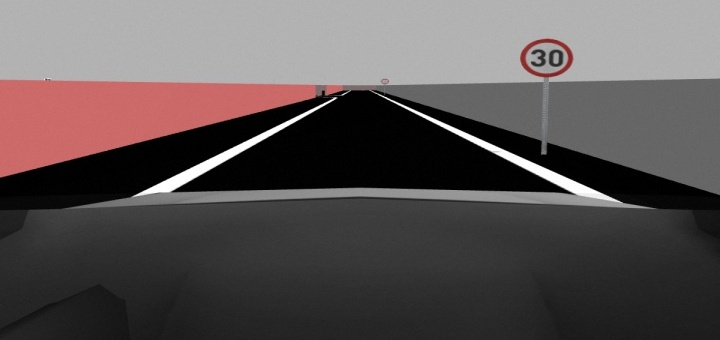hiz_30: (520, 37, 576, 79)
